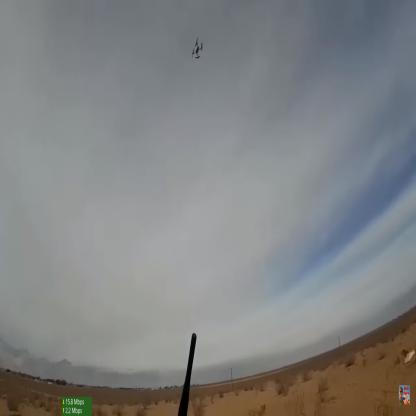drone: (189, 34, 207, 63)
